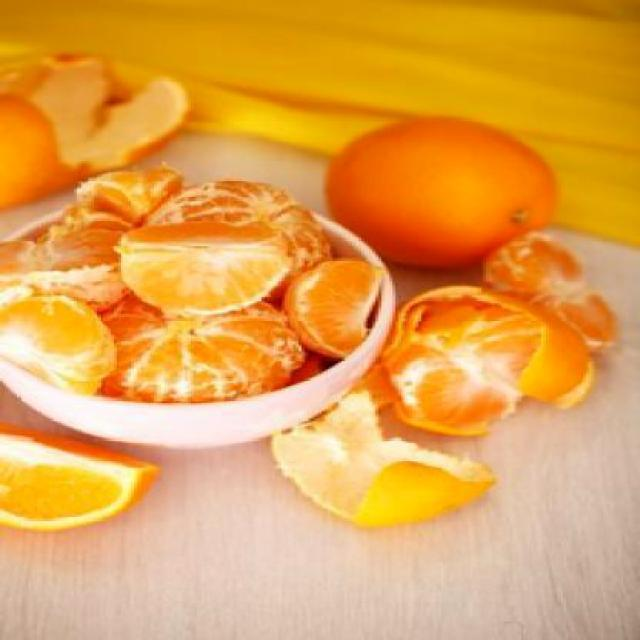Jeruk Sudah Matang: (316, 111, 569, 267), (0, 96, 60, 218)
